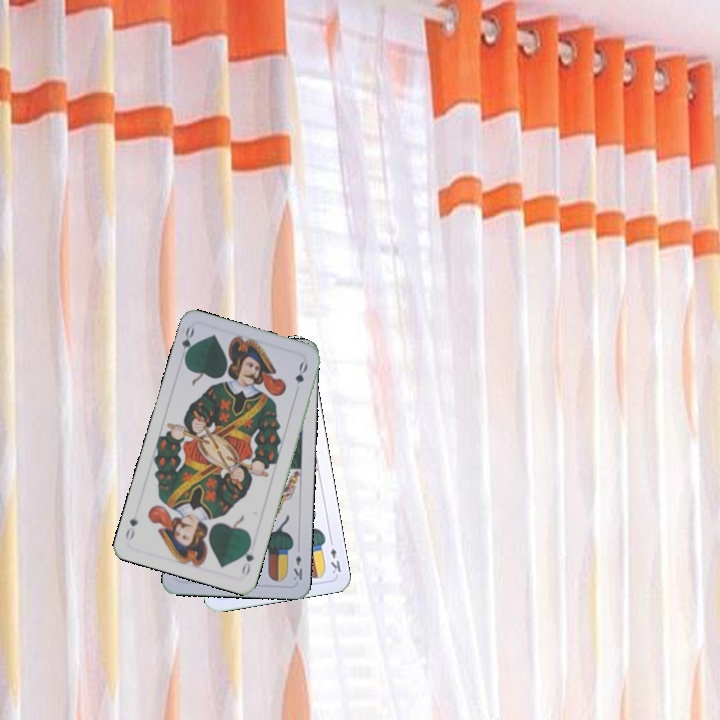EK: (326, 535, 344, 576), (289, 551, 305, 583)
GO: (177, 323, 197, 364), (237, 538, 256, 579)
